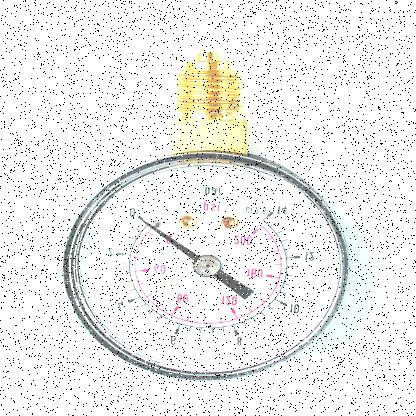needle: (139, 219, 201, 262)
